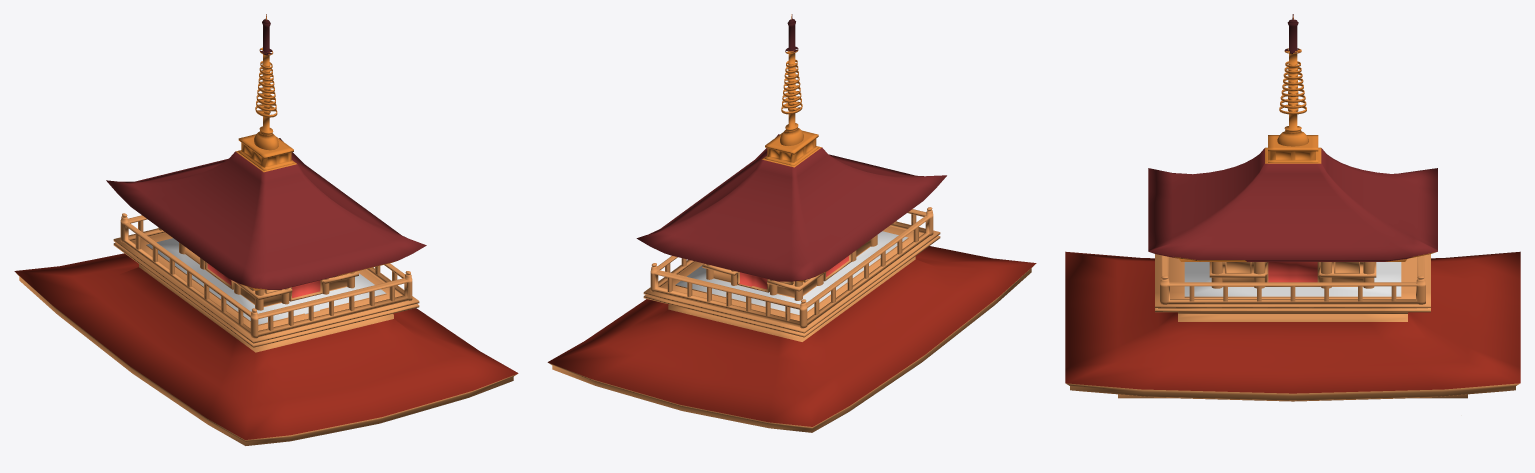
The model's file is top.glb.
The picture shows the model from 3 angles, left to right: view 1: azimuth 30°, elevation 25°; view 2: azimuth 150°, elevation 25°; view 3: azimuth 270°, elevation 25°; orthographic projection. The views are drawn at different scales.
Parts seen in each view (by area): view 1: Cylinder004_1, Cylinder001_1, Cylinder004, Cylinder001, Cylinder004_3; view 2: Cylinder004_1, Cylinder001_1, Cylinder004, Cylinder001, Cylinder004_3; view 3: Cylinder004_1, Cylinder001_1, Cylinder004, Cylinder001, Cylinder004_3, Cylinder004_2.
Part boxes in pixels (box(x1,y1,x2,y2)): Cylinder004_1: box(14, 253, 518, 439); Cylinder001_1: box(106, 138, 426, 289); Cylinder004: box(16, 213, 517, 445); Cylinder001: box(235, 14, 395, 290); Cylinder004_3: box(146, 238, 386, 324); Cylinder004_1: box(548, 246, 1036, 426); Cylinder001_1: box(636, 134, 946, 281); Cylinder004: box(548, 207, 1035, 432); Cylinder001: box(762, 14, 827, 282); Cylinder004_3: box(675, 231, 907, 314); Cylinder004_1: box(1065, 251, 1520, 393); Cylinder001_1: box(1148, 148, 1437, 261); Cylinder004: box(1066, 254, 1519, 401); Cylinder001: box(1174, 16, 1436, 261); Cylinder004_3: box(1184, 262, 1401, 296); Cylinder004_2: box(1268, 262, 1317, 282).
Bounding box in the file's own units: 4.12 × 5.75 × 6.02.
